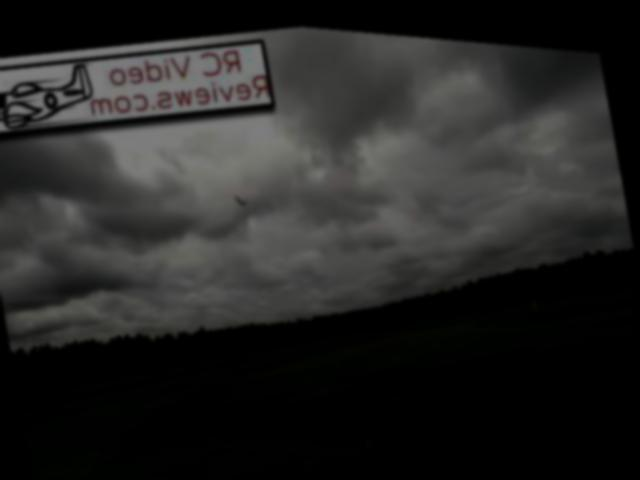uav: (230, 180, 253, 214)
